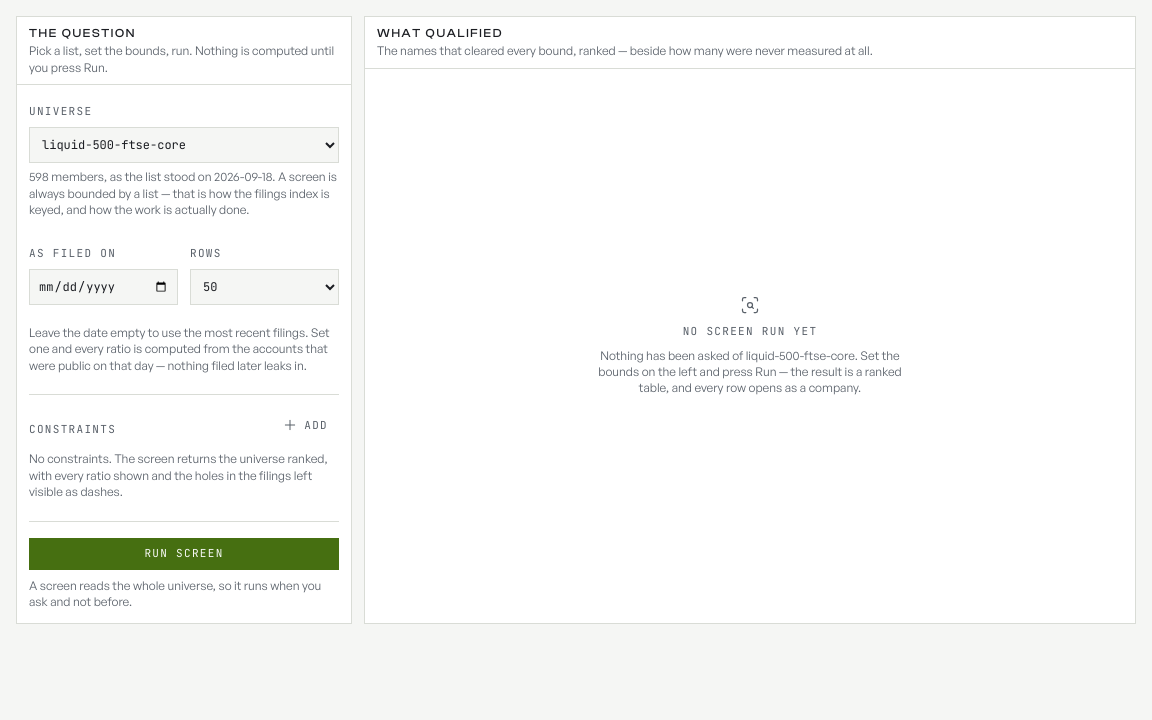
Scenario: Screen — coverage, which is the whole point › explains an empty result with the split, not with "nothing qualified"
The width and height of the screenshot is (1152, 720).
Expected: the dropdown labelled "Universe" is shown, [29,127,339,163]
Click the button with test id "run-screen".
click(184, 554)  # box [29,538,339,570]
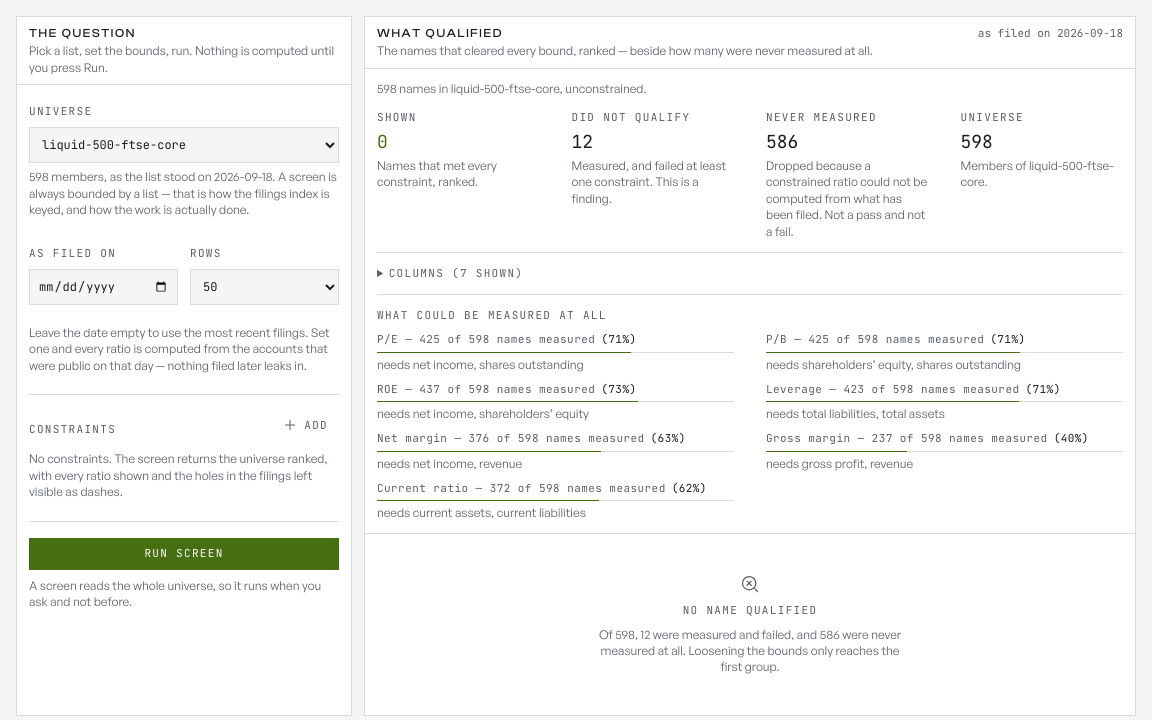
Now the element with test id "screen-no-matches" shows "12 were measured and failed", box [599,626,901,674]
Now the element with test id "screen-no-matches" shows "586 were never measured at all", box [599,626,901,674]
Now the element with test id "screen-no-matches" shows "loosening the bounds only reaches the first group", box [599,626,901,674]
